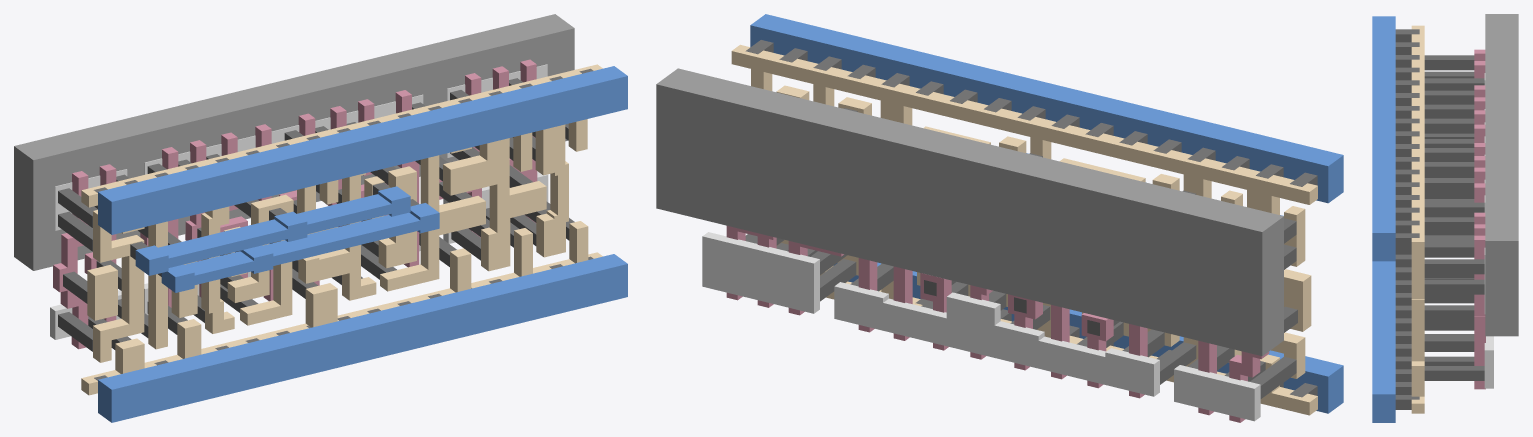
Rendered from sky130_fd_sc_hd__dfxtp_2.gds.gltf.
The picture shows the model from 3 angles, left to right: view 1: azimuth 30°, elevation 25°; view 2: azimuth 150°, elevation 25°; view 3: azimuth 270°, elevation 25°; orthographic projection. The views are drawn at different scales.
Visible parts, largest first — view 1: sky130_fd_sc_hd__dfxtp_2_met1, sky130_fd_sc_hd__dfxtp_2_li1, sky130_fd_sc_hd__dfxtp_2_nwell, sky130_fd_sc_hd__dfxtp_2_licon, sky130_fd_sc_hd__dfxtp_2_poly, sky130_fd_sc_hd__dfxtp_2_diff, sky130_fd_sc_hd__dfxtp_2_mcon; view 2: sky130_fd_sc_hd__dfxtp_2_nwell, sky130_fd_sc_hd__dfxtp_2_diff, sky130_fd_sc_hd__dfxtp_2_met1, sky130_fd_sc_hd__dfxtp_2_li1, sky130_fd_sc_hd__dfxtp_2_poly, sky130_fd_sc_hd__dfxtp_2_licon, sky130_fd_sc_hd__dfxtp_2_mcon; view 3: sky130_fd_sc_hd__dfxtp_2_licon, sky130_fd_sc_hd__dfxtp_2_nwell, sky130_fd_sc_hd__dfxtp_2_met1, sky130_fd_sc_hd__dfxtp_2_mcon, sky130_fd_sc_hd__dfxtp_2_li1, sky130_fd_sc_hd__dfxtp_2_poly, sky130_fd_sc_hd__dfxtp_2_diff.
Boxes of the visible parts, <box> form: sky130_fd_sc_hd__dfxtp_2_met1: <box>98,66,627,422</box>; sky130_fd_sc_hd__dfxtp_2_li1: <box>81,64,602,395</box>; sky130_fd_sc_hd__dfxtp_2_nwell: <box>14,14,574,270</box>; sky130_fd_sc_hd__dfxtp_2_licon: <box>58,78,574,351</box>; sky130_fd_sc_hd__dfxtp_2_poly: <box>53,59,537,349</box>; sky130_fd_sc_hd__dfxtp_2_diff: <box>50,64,548,339</box>; sky130_fd_sc_hd__dfxtp_2_mcon: <box>94,68,593,380</box>; sky130_fd_sc_hd__dfxtp_2_nwell: <box>656,68,1283,356</box>; sky130_fd_sc_hd__dfxtp_2_diff: <box>702,232,1260,421</box>; sky130_fd_sc_hd__dfxtp_2_met1: <box>750,14,1343,413</box>; sky130_fd_sc_hd__dfxtp_2_li1: <box>731,44,1317,415</box>; sky130_fd_sc_hd__dfxtp_2_poly: <box>726,226,1269,422</box>; sky130_fd_sc_hd__dfxtp_2_licon: <box>745,108,1297,398</box>; sky130_fd_sc_hd__dfxtp_2_mcon: <box>745,40,1317,397</box>; sky130_fd_sc_hd__dfxtp_2_licon: <box>1424,55,1484,380</box>; sky130_fd_sc_hd__dfxtp_2_nwell: <box>1485,14,1518,336</box>; sky130_fd_sc_hd__dfxtp_2_met1: <box>1372,16,1395,422</box>; sky130_fd_sc_hd__dfxtp_2_mcon: <box>1395,29,1419,409</box>; sky130_fd_sc_hd__dfxtp_2_li1: <box>1411,25,1424,413</box>; sky130_fd_sc_hd__dfxtp_2_poly: <box>1474,49,1485,389</box>; sky130_fd_sc_hd__dfxtp_2_diff: <box>1484,73,1493,388</box>.
Size of the model in its own units: 8.2 by 3.2 by 2.24.
